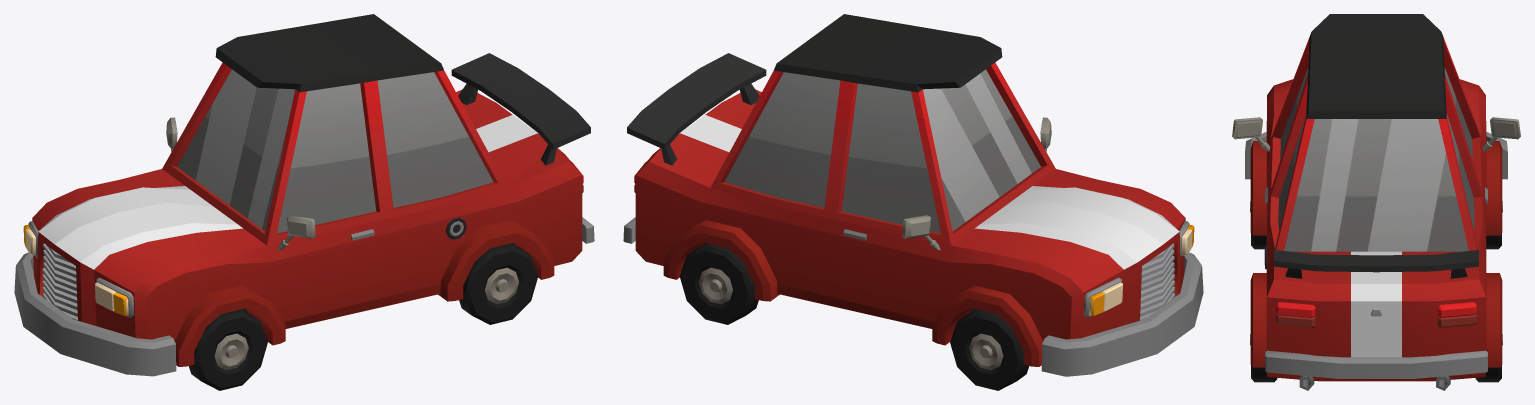
The model's file is Car_2_B.gltf.
3 renders of one model, left to right at view 1: azimuth 30°, elevation 25°; view 2: azimuth 150°, elevation 25°; view 3: azimuth 270°, elevation 25°, orthographic.
Visible parts, largest first — view 1: Car_2_B, RL, FL; view 2: Car_2_B, RR, FR; view 3: Car_2_B, RL, RR.
Part boxes in pixels (x1,y1,x2,y2): Car_2_B: (14,14,594,376); RL: (459,243,538,324); FL: (188,309,267,390); Car_2_B: (623,14,1203,376); RR: (679,243,758,324); FR: (950,309,1029,390); Car_2_B: (1232,14,1520,390); RL: (1250,334,1277,382); RR: (1475,334,1502,382).
Size of the model in its own units: 3.64 by 1.8 by 1.78.
4 materials, 4 textured.
